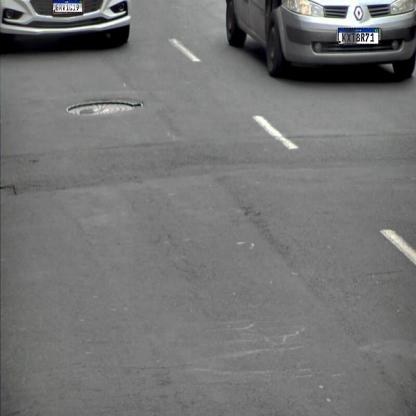PlacaM: (338, 28, 379, 44), (52, 0, 82, 12)
